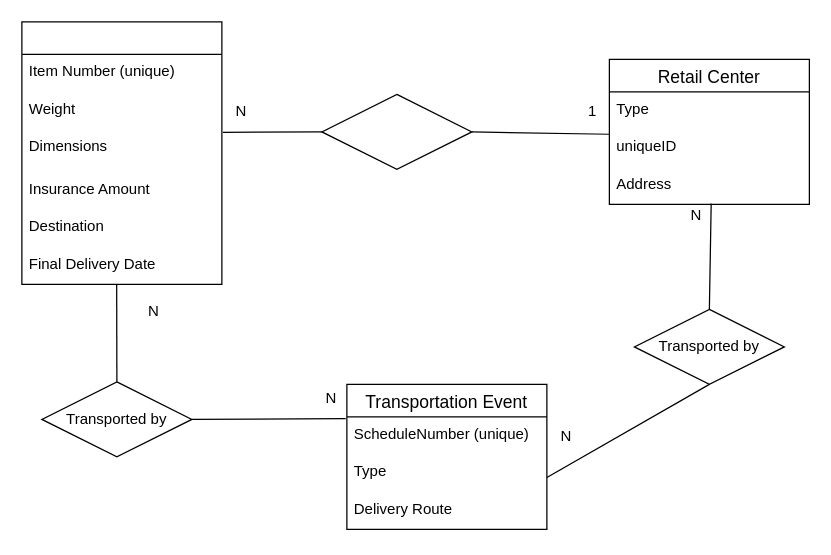
The diagram is 831 pixels wide and 555 high, and some of its shapes have lost their labels. Here are the shapes that lost their labels. From the top down, the box of each, then its label:
(321, 93, 472, 169): Received by
(21, 21, 222, 284): Shipped Item
